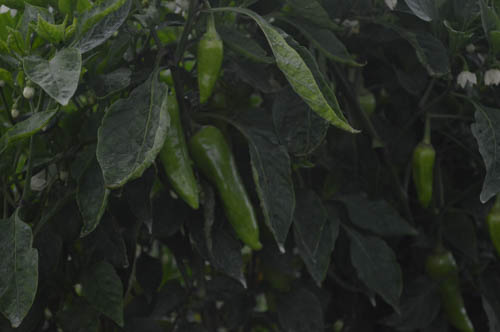ChiliPepper: (196, 125, 265, 249), (152, 78, 201, 210), (425, 251, 472, 326), (190, 35, 223, 104), (408, 145, 432, 206)
